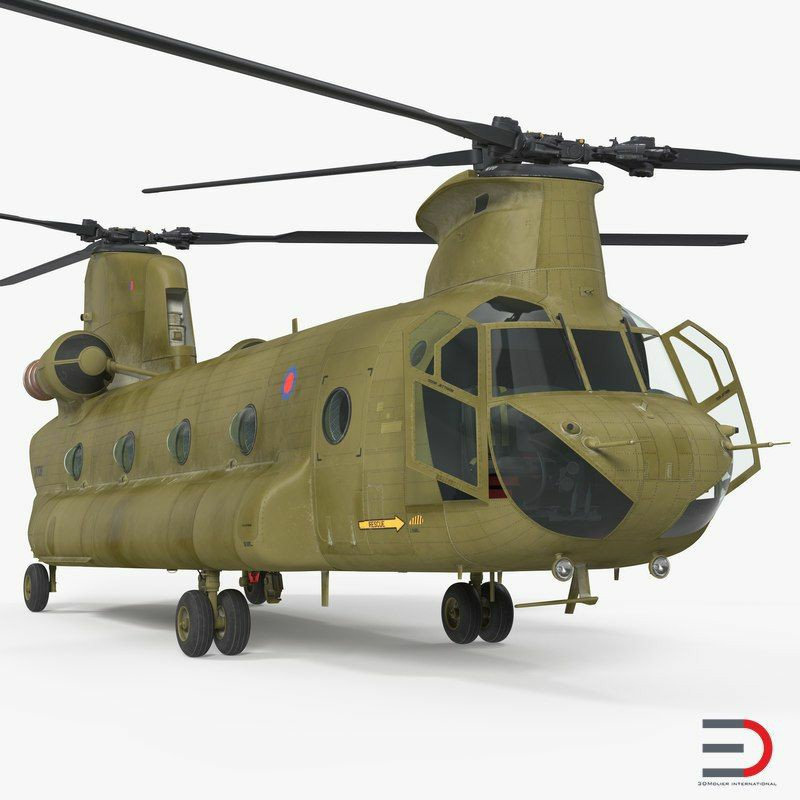chinook: (7, 23, 777, 663)
